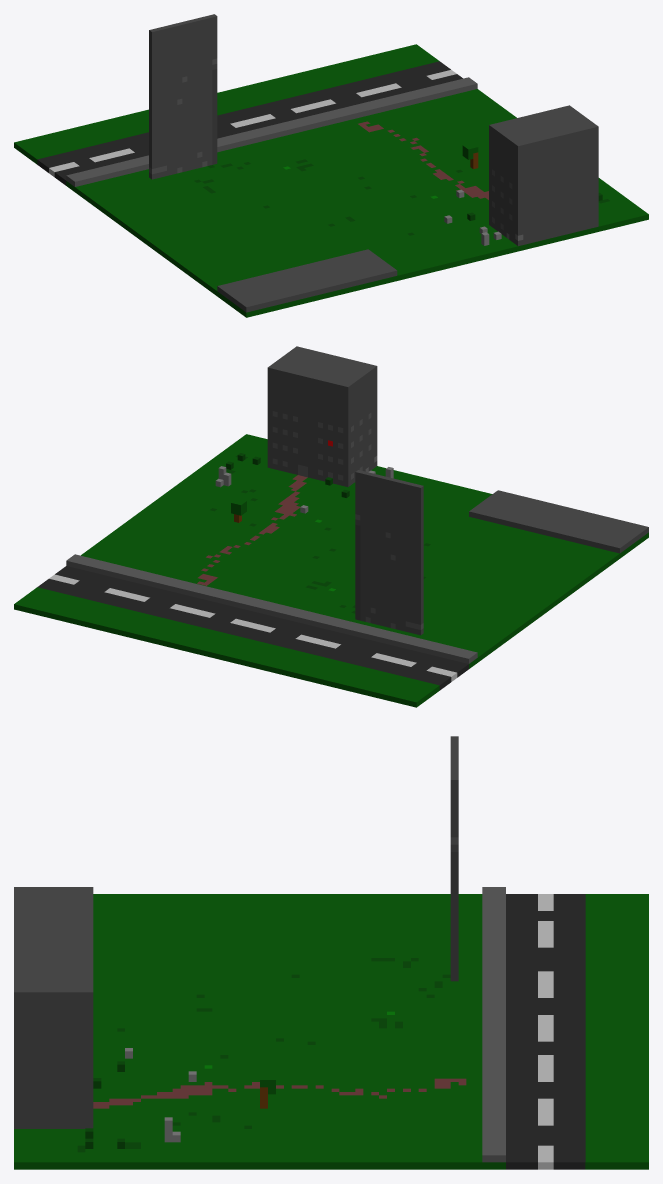
File: MainMenu.obj
3 views of the same model, one above another, from view 1: azimuth 30°, elevation 25°; view 2: azimuth 150°, elevation 25°; view 3: azimuth 270°, elevation 25° (orthographic). The views are drawn at different scales.
Bounding box in the file's own units: 8 × 2.9 × 8.
Materials: 1 (1 with a texture image).
